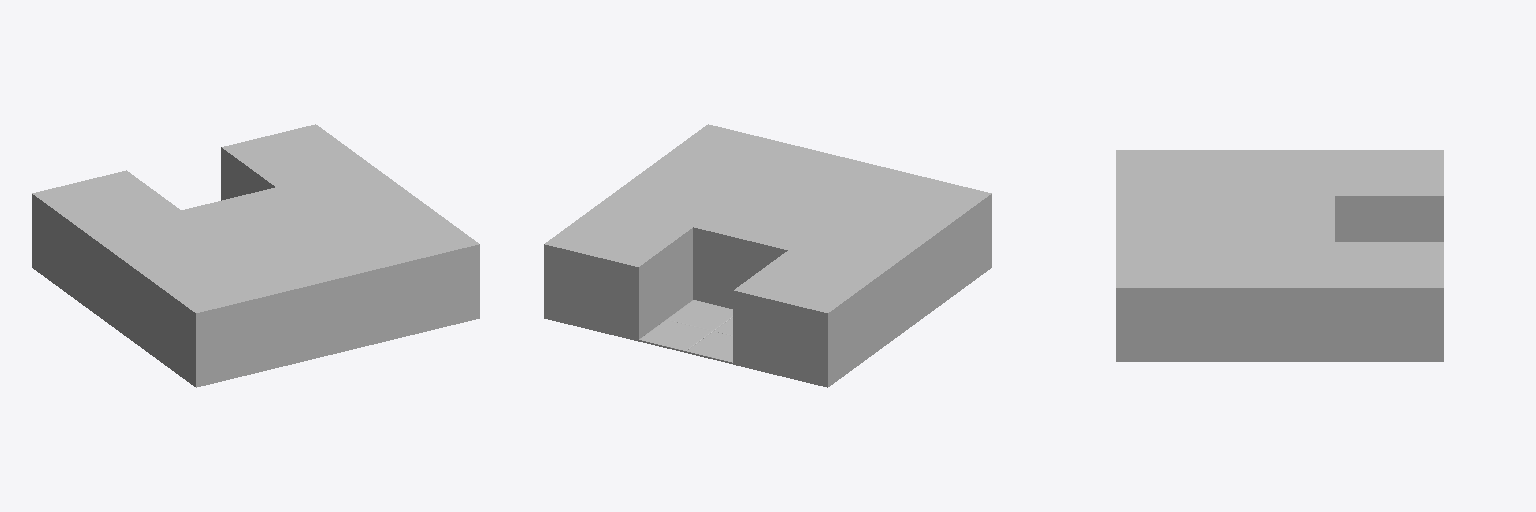
The model's file is Corredor_Sin salida_tipo A_3.obj.
3 views of the same model, side by side, from view 1: azimuth 30°, elevation 25°; view 2: azimuth 150°, elevation 25°; view 3: azimuth 270°, elevation 25° (orthographic).
Parts seen in each view (by area): view 1: polySurface21; view 2: polySurface21; view 3: polySurface21.
Part boxes in pixels (bbox=[...]): polySurface21: bbox=[32, 124, 479, 387]; polySurface21: bbox=[544, 124, 991, 387]; polySurface21: bbox=[1116, 150, 1443, 361].
Size of the model in its own units: 144 by 36 by 144.